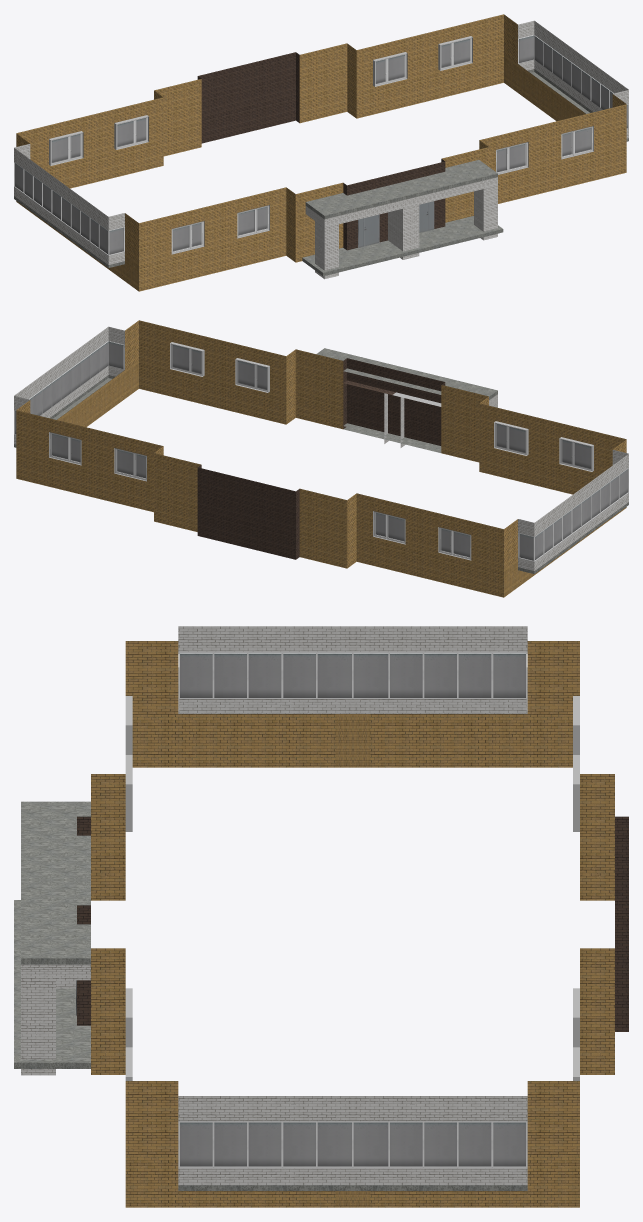
File: Building_4.fbx
The picture shows the model from 3 angles, top to bottom: view 1: azimuth 30°, elevation 25°; view 2: azimuth 150°, elevation 25°; view 3: azimuth 270°, elevation 25°; orthographic projection. The views are drawn at different scales.
Visible parts, largest first — view 1: Building_0; view 2: Building_0; view 3: Building_0.
Part boxes in pixels (x1,y1,x2,y2): Building_0: (14,14,628,291); Building_0: (14,320,628,597); Building_0: (14,626,628,1207).
Bounding box in the file's own units: 3180 × 430 × 1760.
